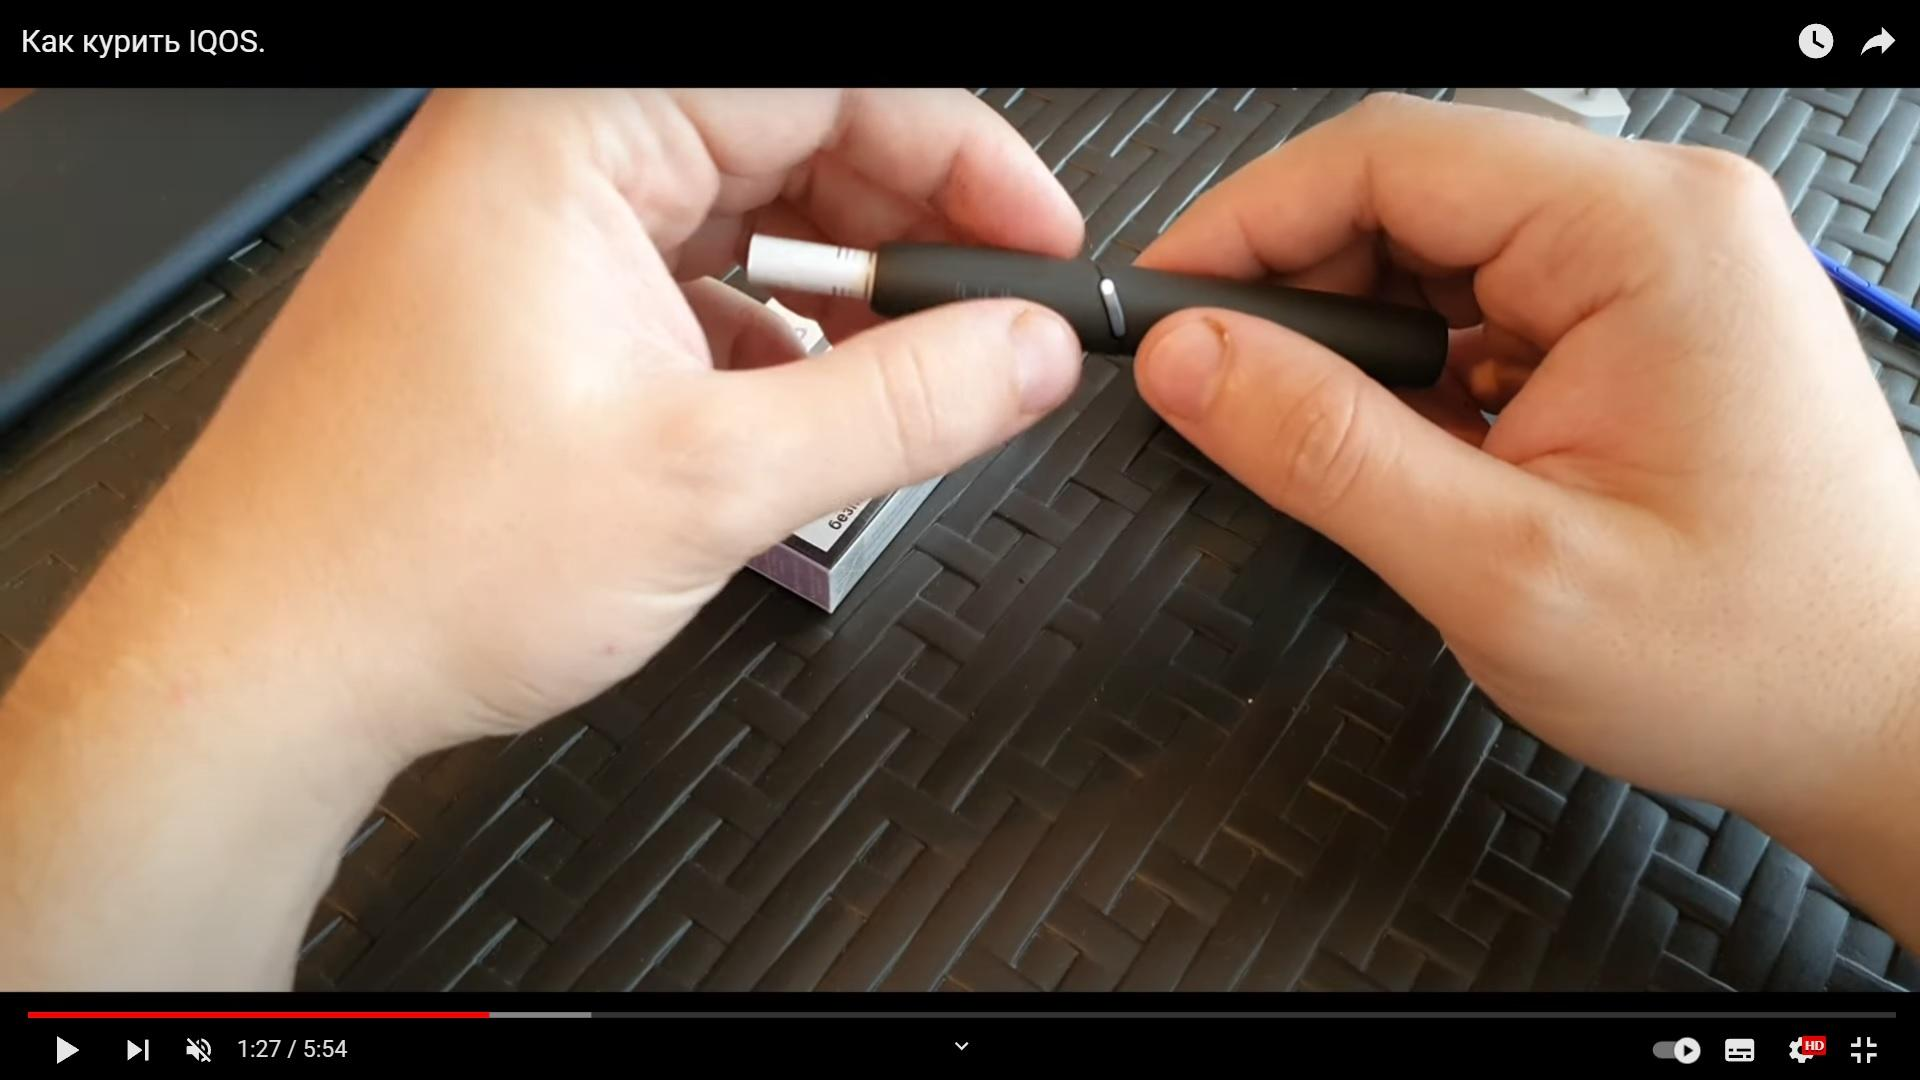iqos: (740, 236, 1447, 388)
